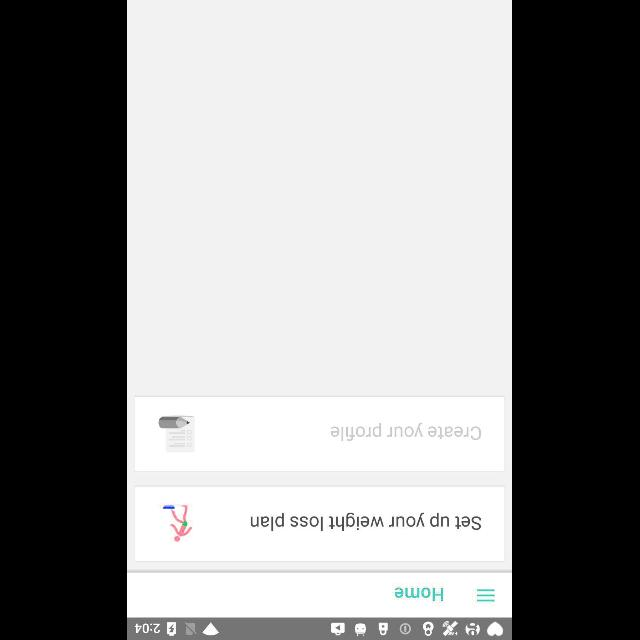icon: (478, 588, 496, 602)
image: (158, 415, 196, 453), (164, 503, 192, 541)
panel: (134, 396, 506, 472), (134, 485, 506, 561)
text: (252, 512, 482, 530), (332, 422, 482, 440), (396, 587, 444, 601)
toolbar: (128, 573, 512, 617)
uppertaskbar: (128, 617, 512, 639)
